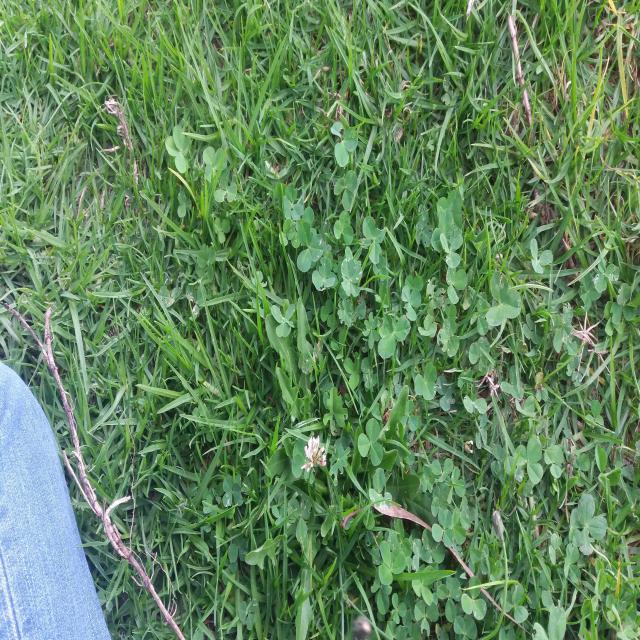Four Leaf Clover: (291, 438, 319, 484), (165, 125, 190, 173), (341, 257, 362, 296), (337, 298, 352, 328)
